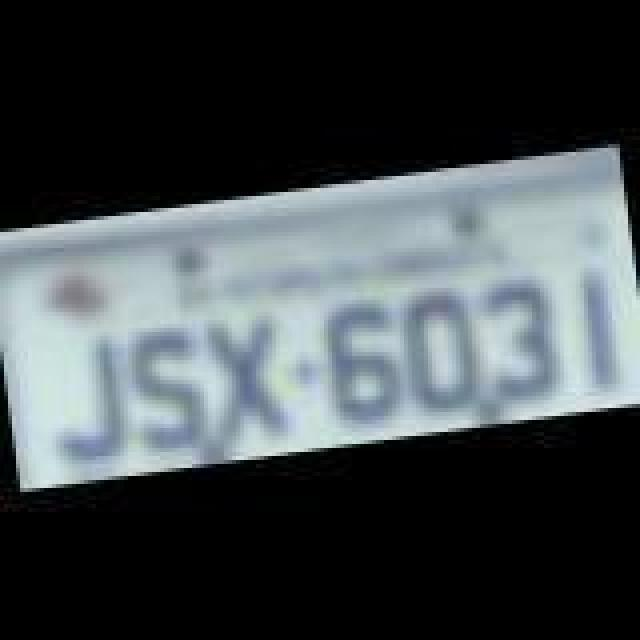1: (572, 268, 628, 396)
3: (476, 282, 564, 406)
6: (318, 304, 410, 432)
J: (42, 334, 134, 466)
O: (396, 290, 484, 414)
S: (124, 328, 212, 456)
X: (202, 314, 294, 446)
